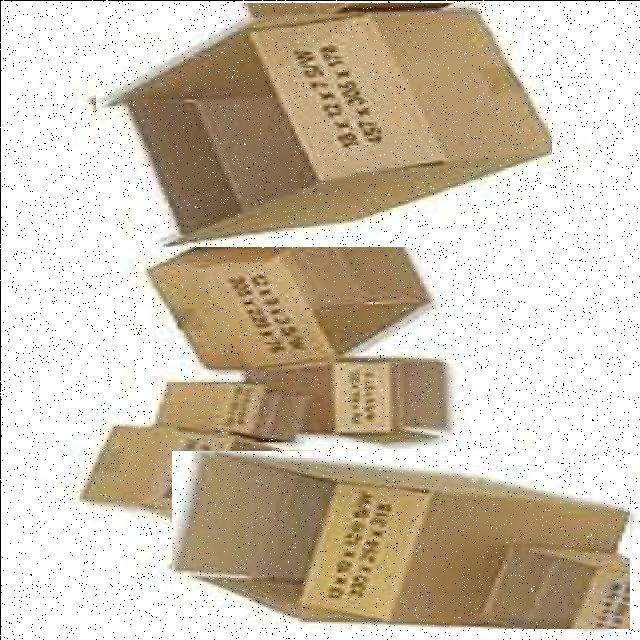defect: (95, 2, 551, 246), (171, 450, 629, 628), (144, 203, 433, 371)
